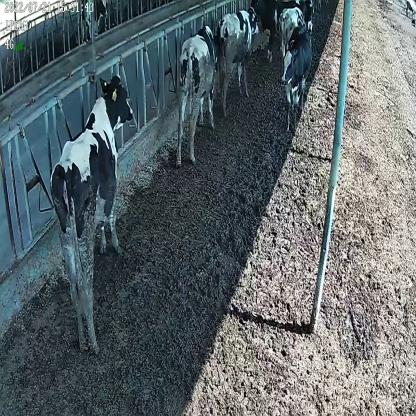cow: (50, 75, 134, 354), (174, 25, 220, 167), (216, 7, 259, 113), (280, 22, 312, 128)
